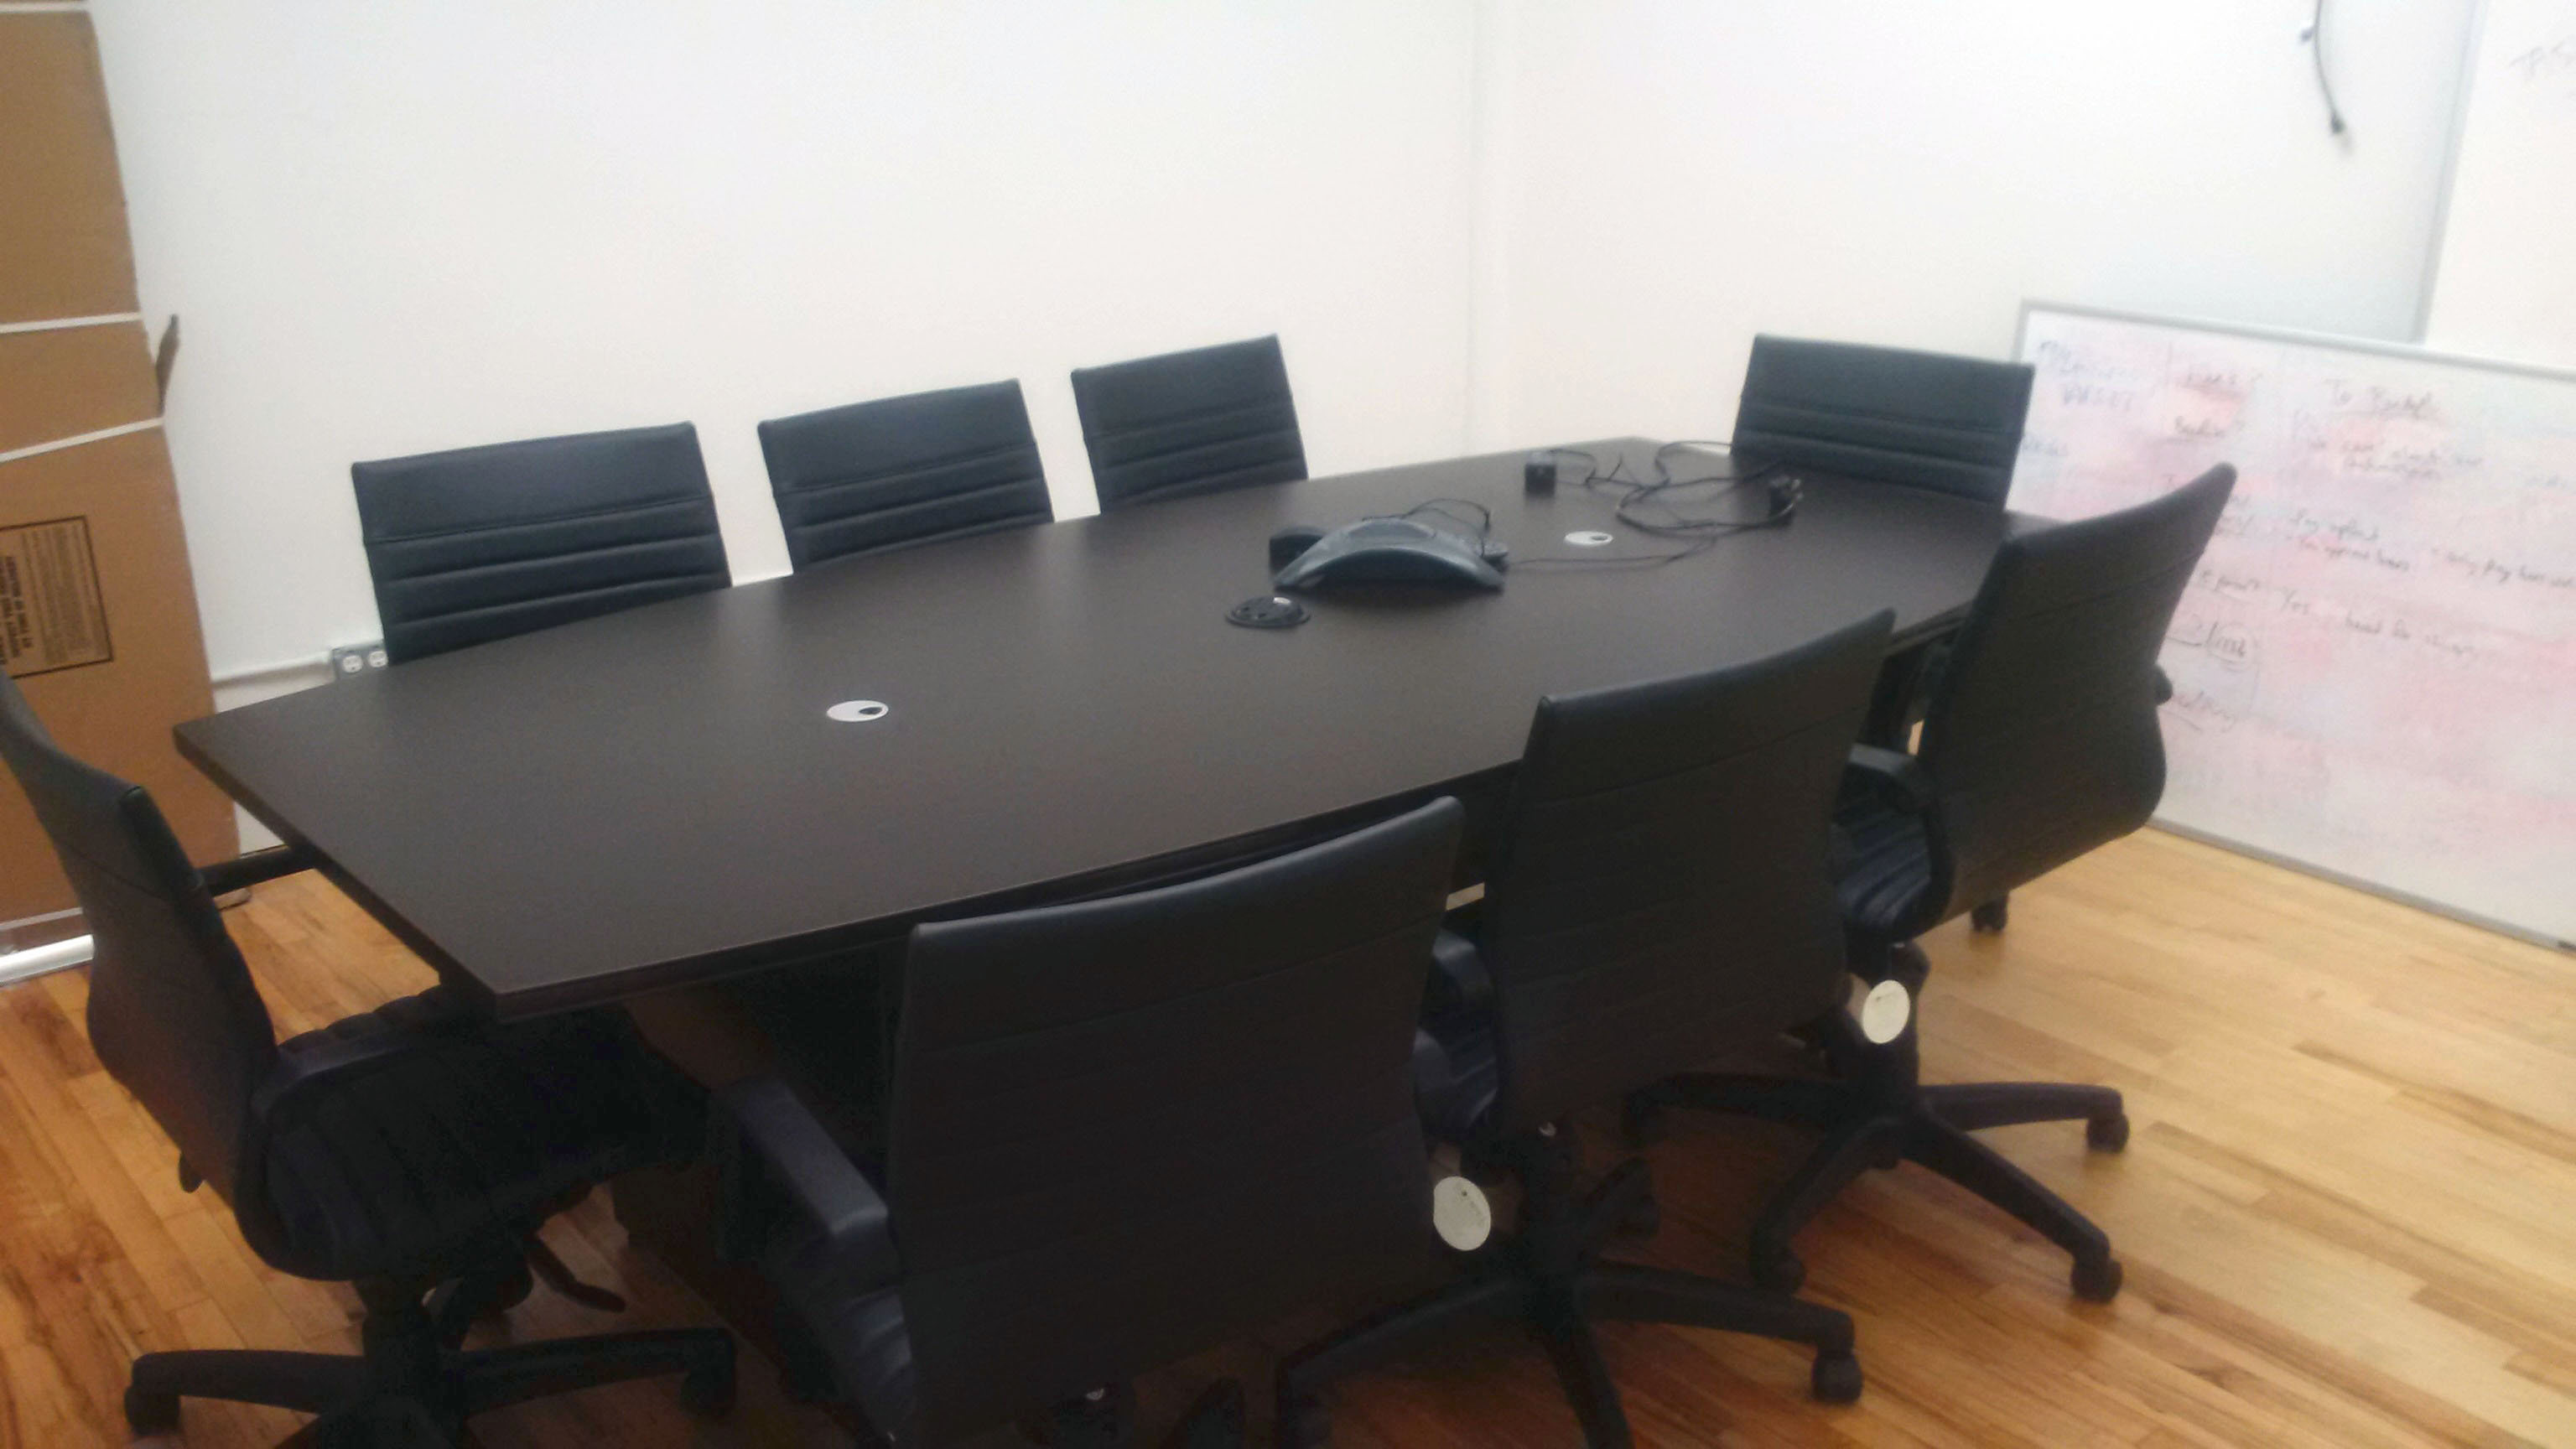conference_table: (179, 435, 2089, 1031)
